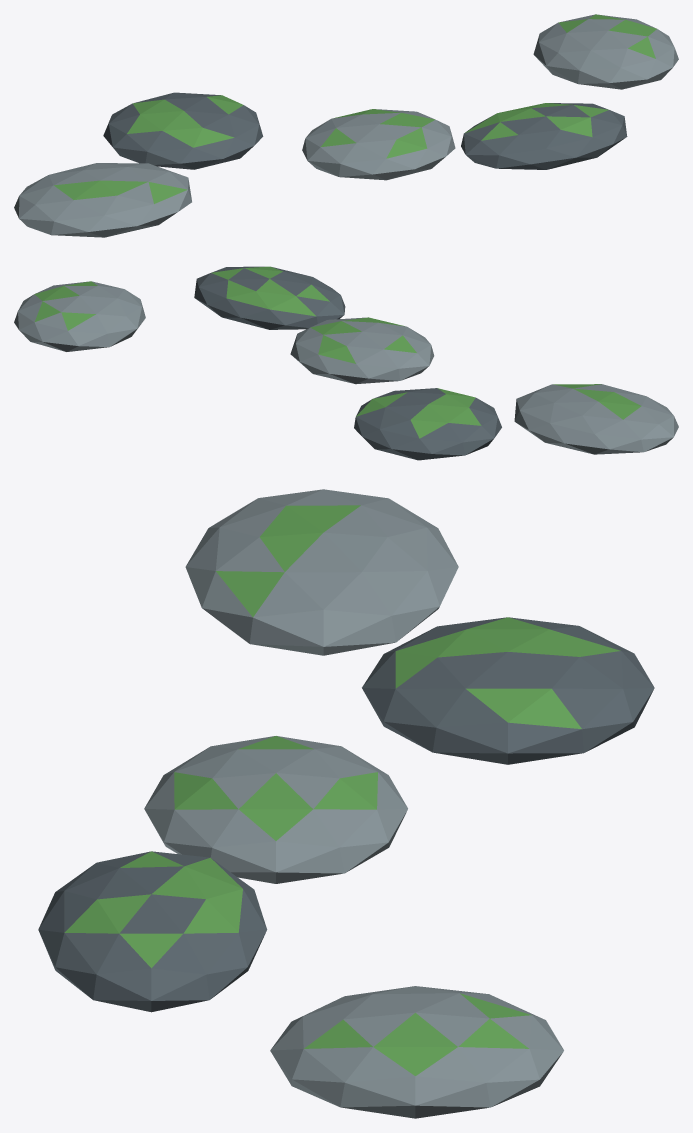
The model's file is stepping_stones.glb.
3 views of the same model, one above another, from view 1: azimuth 30°, elevation 25°; view 2: azimuth 150°, elevation 25°; view 3: azimuth 270°, elevation 25° (orthographic). The views are drawn at different scales.
Parts seen in each view (by area): view 1: stepping_stones.001; view 2: stepping_stones.001; view 3: stepping_stones.001.
Boxes of the visible parts, box(x1,y1,x2,y2) form: stepping_stones.001: box(14, 14, 678, 237); stepping_stones.001: box(14, 266, 678, 460); stepping_stones.001: box(38, 489, 654, 1118).
Bounding box in the file's own units: 2 × 0.0876 × 0.8507.
